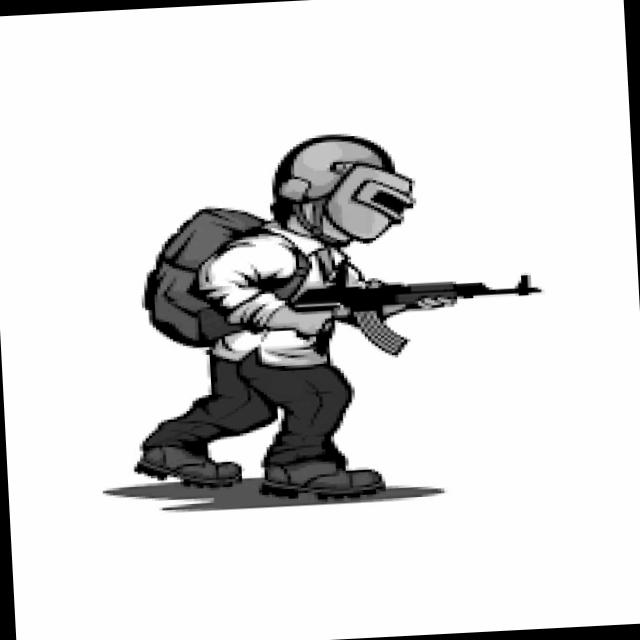gun: (198, 264, 549, 370)
